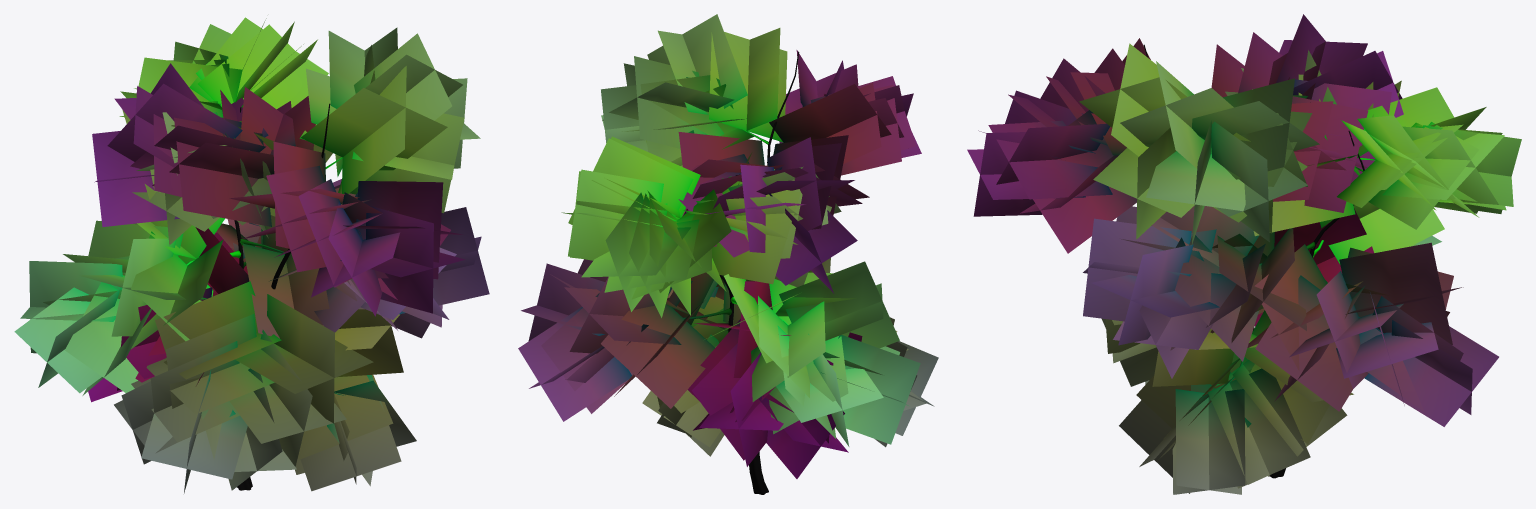
File: URP_P14_Tree_7_LOD_0.fbx
3 views of the same model, side by side, from view 1: azimuth 30°, elevation 25°; view 2: azimuth 150°, elevation 25°; view 3: azimuth 270°, elevation 25° (orthographic). The views are drawn at different scales.
Visible parts, largest first — view 1: Tree_7_LOD_0; view 2: Tree_7_LOD_0; view 3: Tree_7_LOD_0.
Part boxes in pixels (x1,y1,x2,y2): Tree_7_LOD_0: [14, 17, 489, 493]; Tree_7_LOD_0: [518, 14, 938, 494]; Tree_7_LOD_0: [967, 14, 1521, 494].
Bounding box in the file's own units: 413 × 459 × 494.
